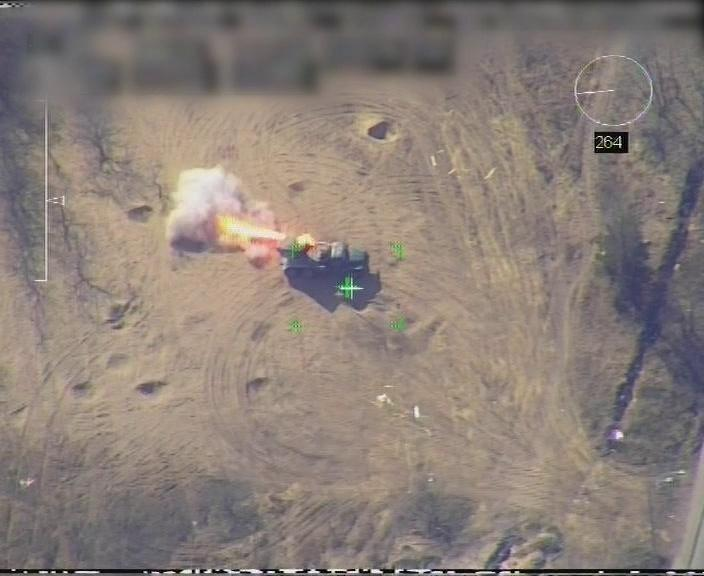rszo: (276, 234, 371, 284)
